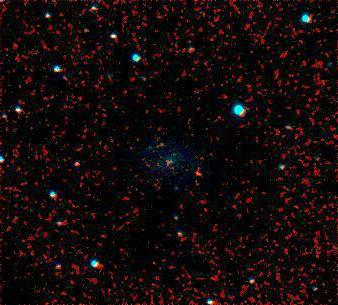star: (185, 158, 215, 188)
